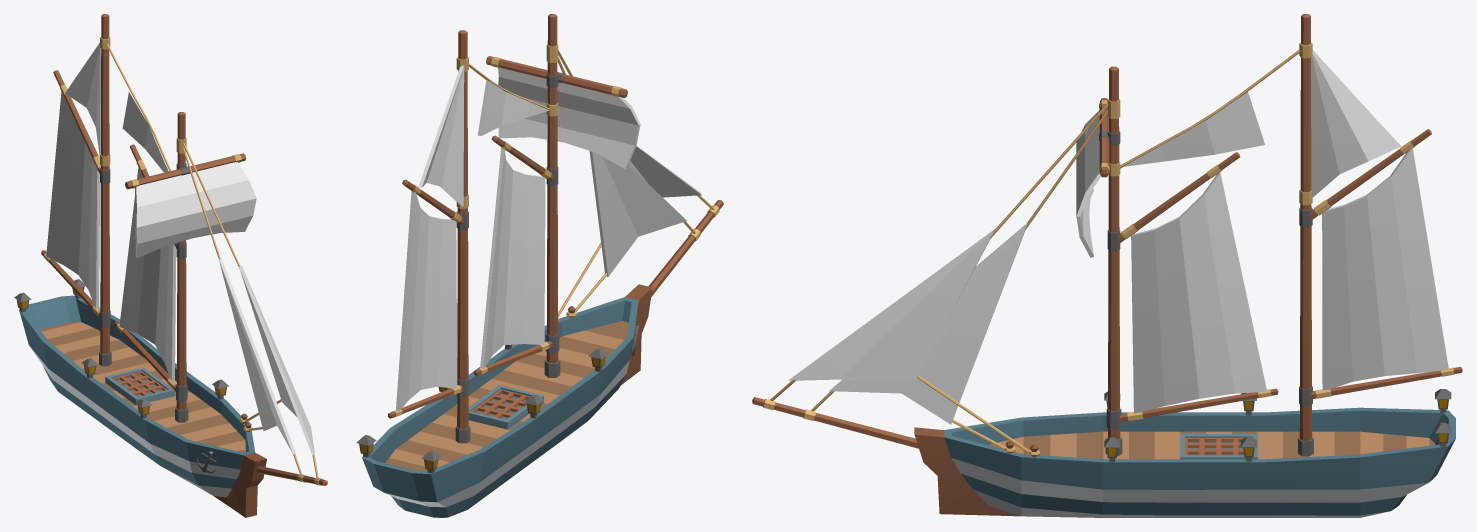
The model's file is ship-medium-1.glb.
3 views of the same model, side by side, from view 1: azimuth 30°, elevation 25°; view 2: azimuth 150°, elevation 25°; view 3: azimuth 270°, elevation 25° (orthographic). The views are drawn at different scales.
Visible parts, largest first — view 1: ship medium 1; view 2: ship medium 1; view 3: ship medium 1.
Part boxes in pixels (x1,y1,x2,y2): ship medium 1: [14, 14, 327, 517]; ship medium 1: [356, 14, 723, 517]; ship medium 1: [752, 14, 1462, 517].
Size of the model in its own units: 9.69 by 30.75 by 39.55.
1 material, 1 textured.
